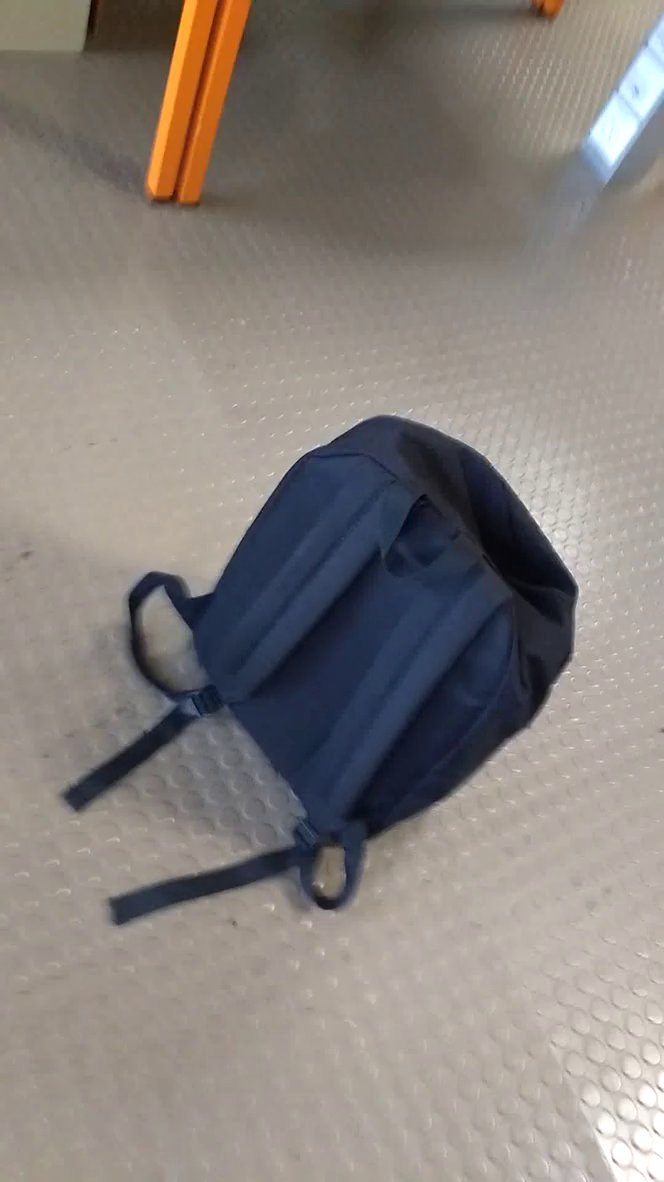bag: (57, 394, 593, 947)
